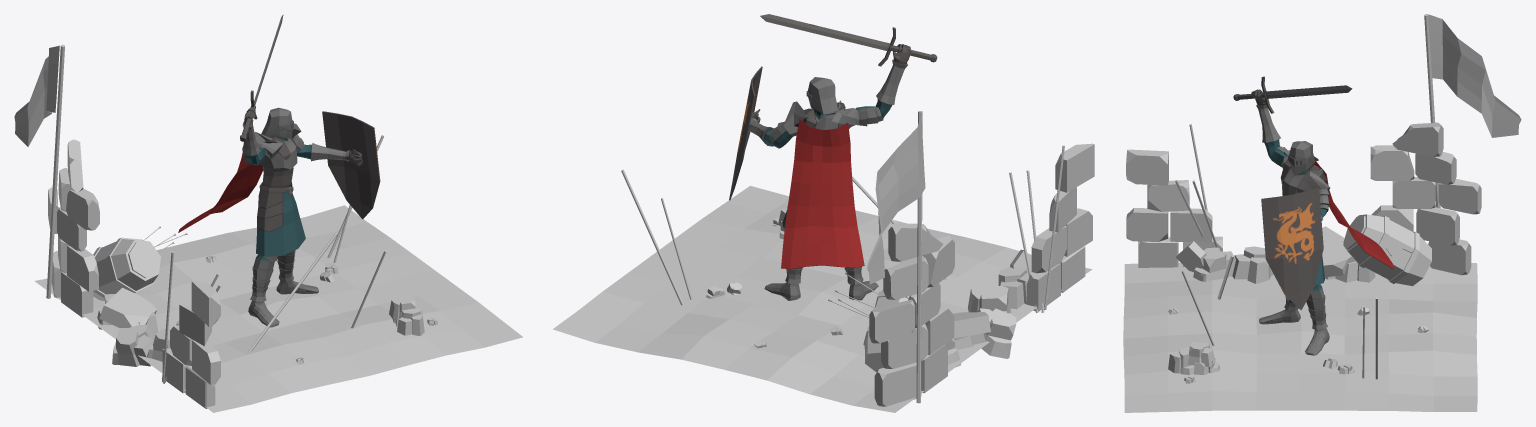
Rendered from Knight_Showcase.fbx.
3 views of the same model, side by side, from view 1: azimuth 30°, elevation 25°; view 2: azimuth 150°, elevation 25°; view 3: azimuth 270°, elevation 25° (orthographic). The views are drawn at different scales.
Parts seen in each view (by area): view 1: Cube.018, Armor.001, Shield.001, Cape.001, Helmet.001, Sword.001; view 2: Cube.018, Cape.001, Armor.001, Sword.001, Shield.001, Helmet.001; view 3: Cube.018, Shield.001, Armor.001, Sword.001, Cape.001, Helmet.001.
Part boxes in pixels (x1,y1,x2,y2): Cube.018: [14, 44, 522, 412]; Armor.001: [242, 108, 362, 327]; Shield.001: [322, 111, 380, 219]; Cape.001: [178, 153, 263, 232]; Helmet.001: [261, 107, 292, 138]; Sword.001: [240, 14, 283, 141]; Cube.018: [553, 111, 1094, 412]; Cape.001: [781, 119, 864, 269]; Armor.001: [748, 44, 911, 300]; Sword.001: [760, 14, 937, 66]; Shield.001: [729, 66, 762, 200]; Helmet.001: [807, 77, 838, 114]; Cube.018: [1123, 14, 1521, 412]; Shield.001: [1261, 188, 1323, 310]; Armor.001: [1251, 89, 1330, 355]; Sword.001: [1233, 76, 1352, 113]; Cape.001: [1314, 161, 1393, 269]; Helmet.001: [1289, 141, 1315, 175].
Size of the model in its own units: 300 by 251 by 325.
